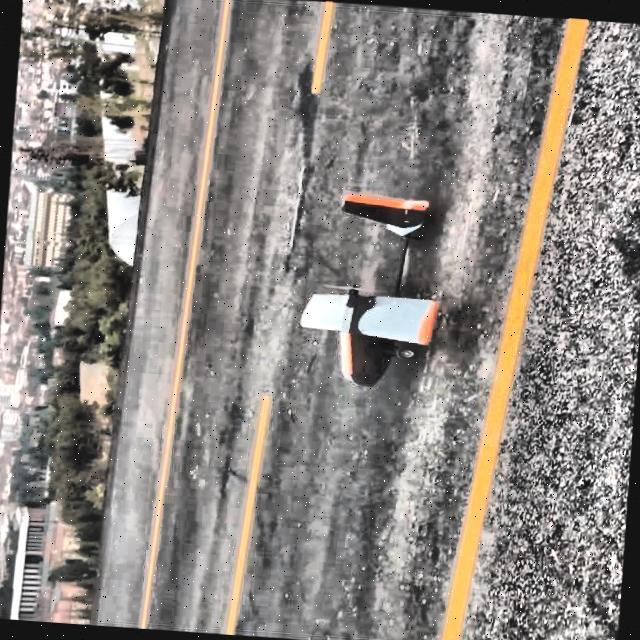iha: (270, 139, 465, 427)
